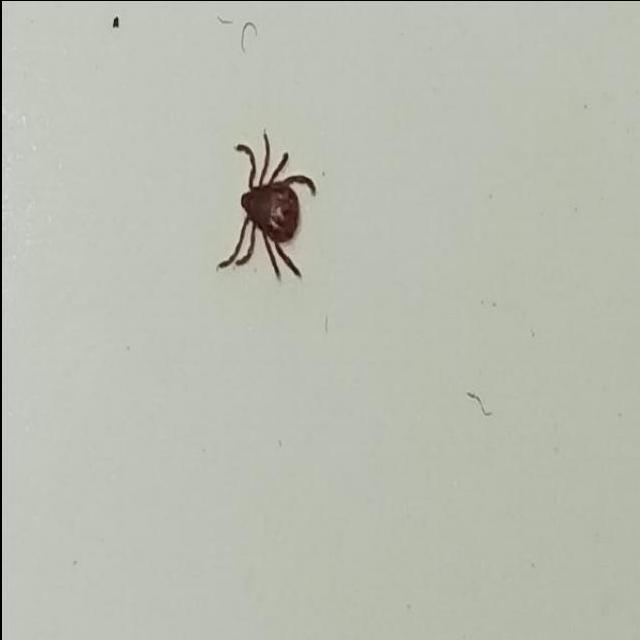Rhipicephalus Sanguineus-M: (214, 127, 314, 284)
